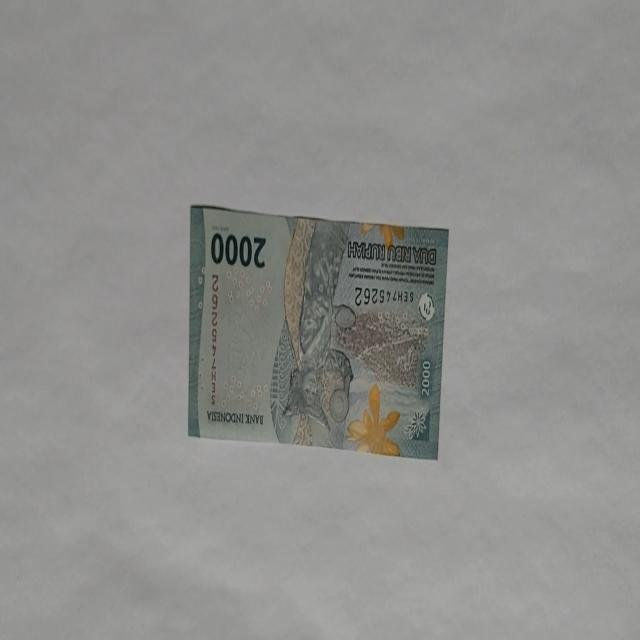dua ribu rupiah: (187, 202, 449, 458), (269, 216, 357, 447)
